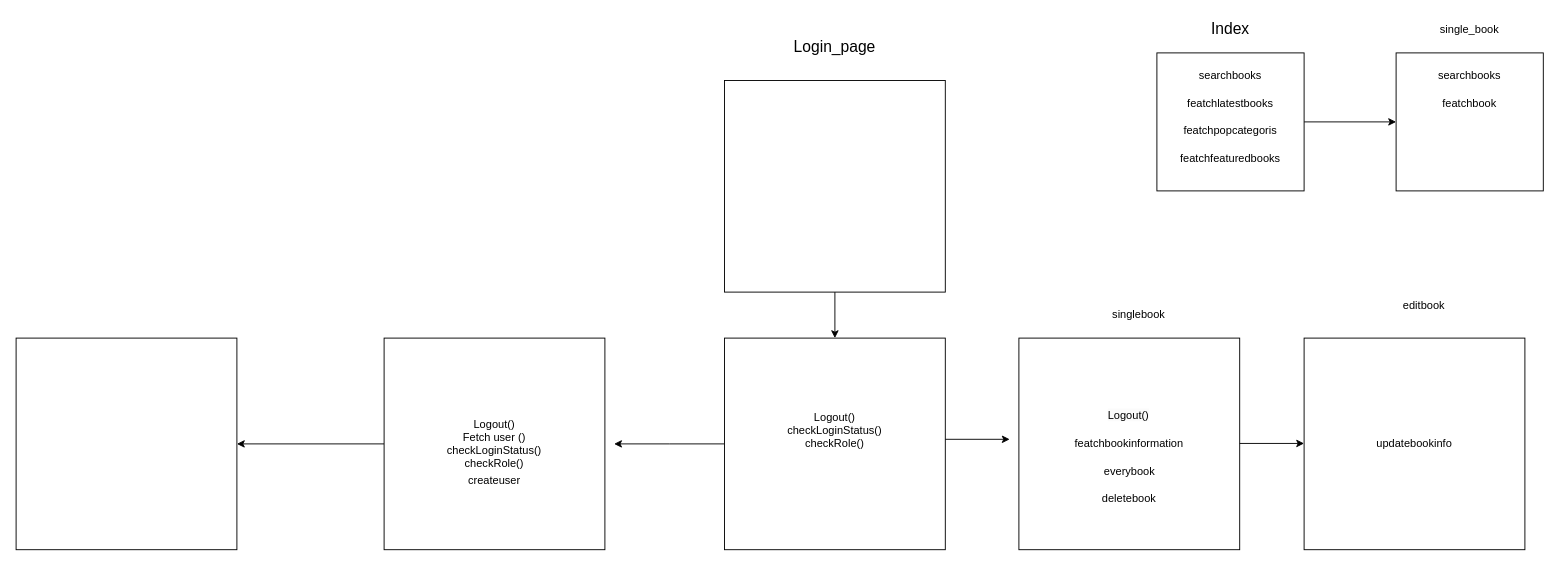
Image size: 1559x566. Some labels were removed from this diagram. The centre of each missing label's shape, as x and y in pixels:
"Login() CheckloginStatus()" belongs at (x=834, y=186).
"Logout() Update user info() checkLoginStatus() checkRole()" belongs at (x=126, y=443).
